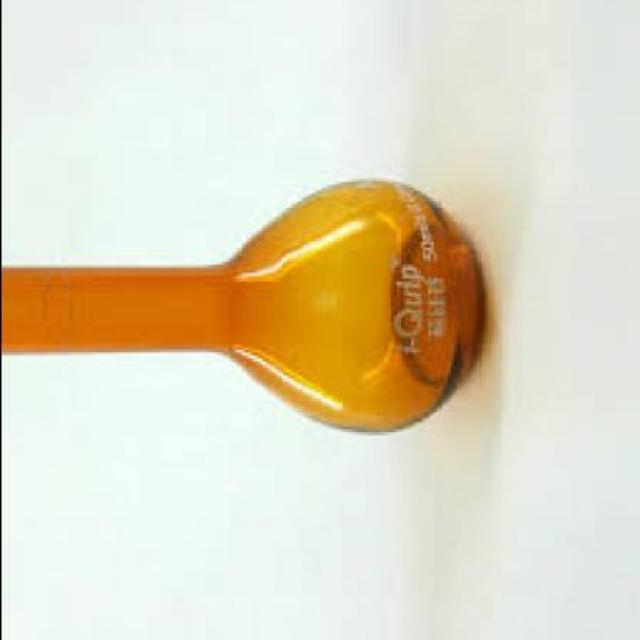GLASS: (2, 182, 484, 440)
